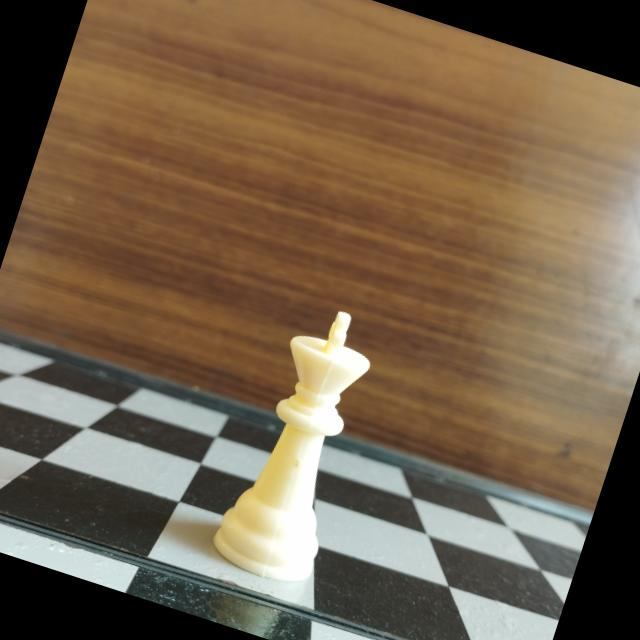White King: (200, 283, 402, 597)
